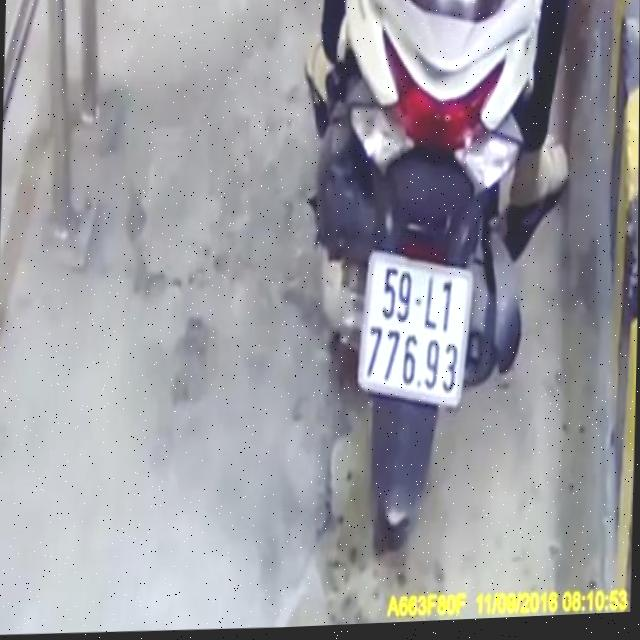motorcycle: (294, 0, 554, 580)
plate: (349, 239, 483, 418)
